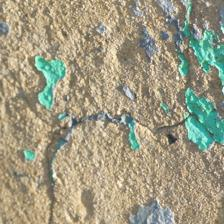Crack: (0, 90, 145, 215), (0, 120, 97, 166)
